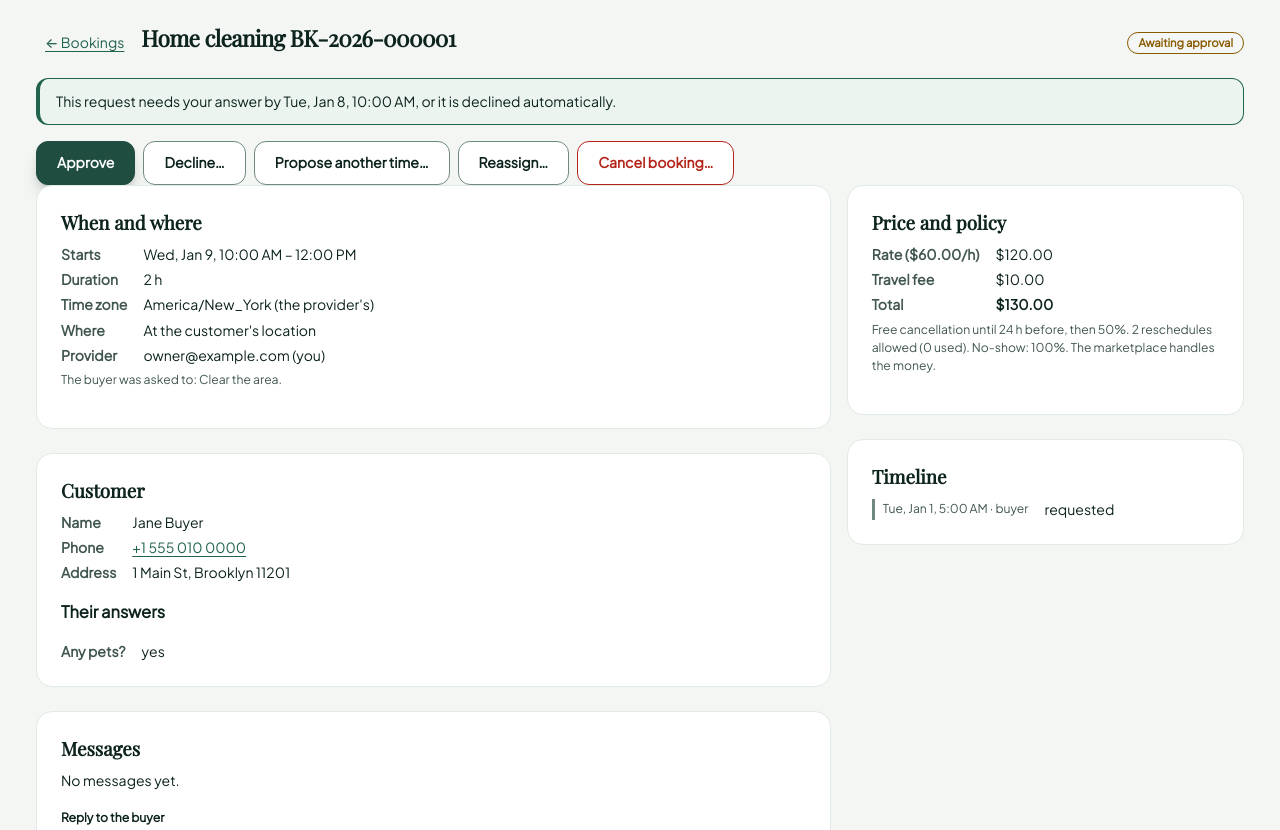
Scenario: review fixes: bookings › reloads the latest booking and explains when an action hits a version conflict
The width and height of the screenshot is (1280, 830).
Click the button "Approve". click: (86, 163)
box: [36,141,136,185]
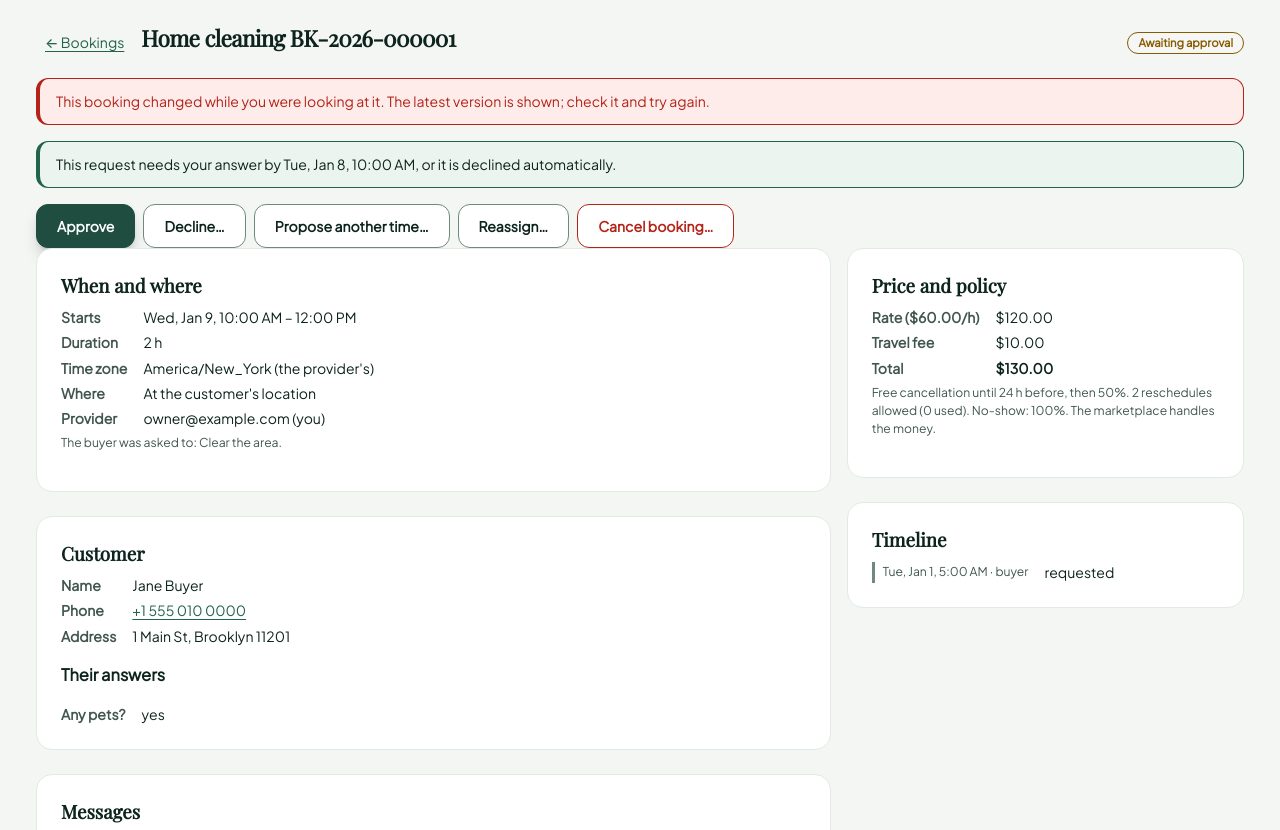
Expected: the text "This booking changed while you were looking at it" is shown, [56,92,710,110]
